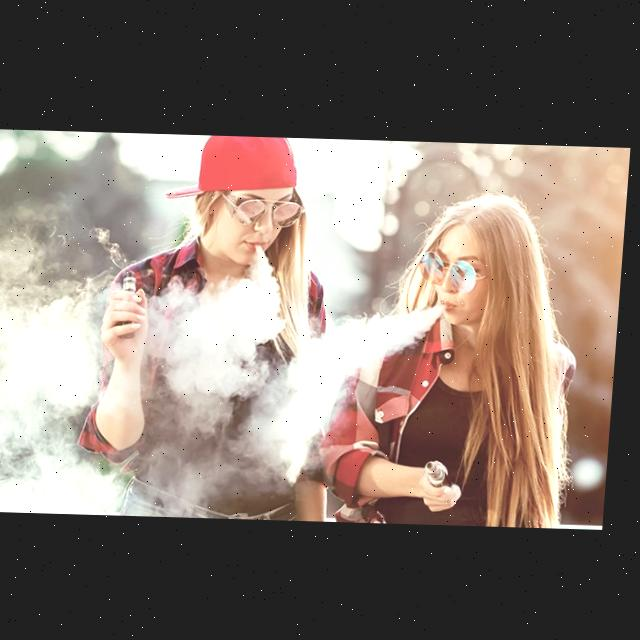vape: (121, 270, 143, 339), (431, 459, 461, 485)
